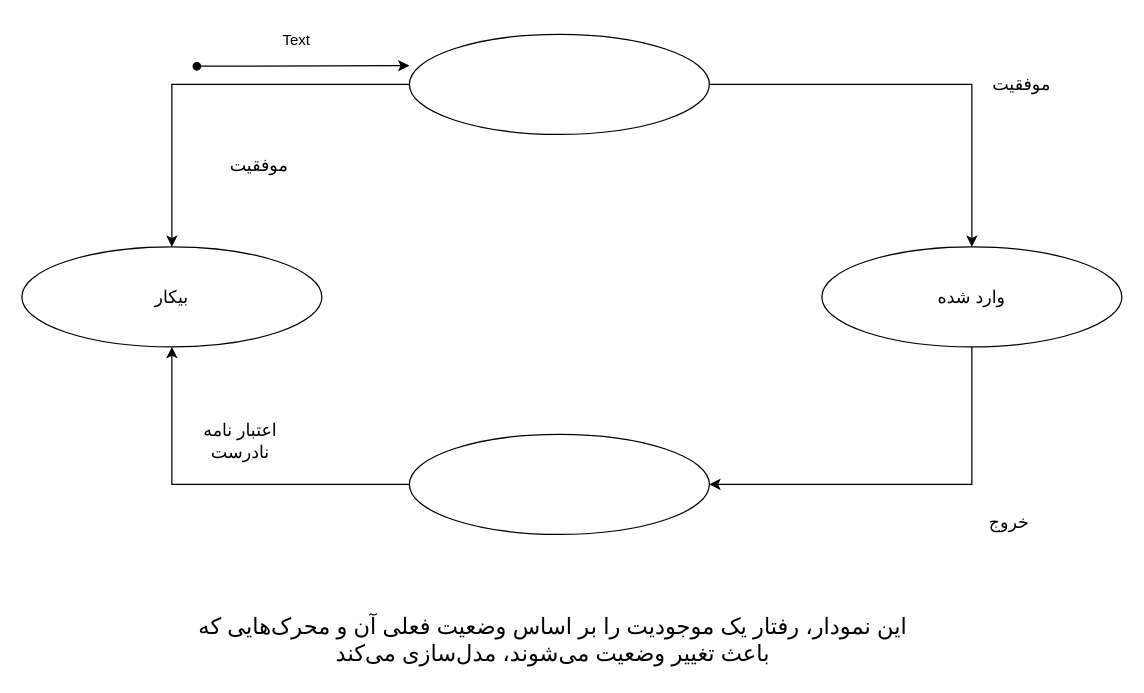
Some shapes in this 1144 by 693 pixel diagram are drawn without their labels. The shapes that lost their labels are listed below. From the top down, each one's centre as x and y in pixels, then its label:
At (x=558, y=83): "اعتبار سنجی".
At (x=558, y=483): "خطا".
